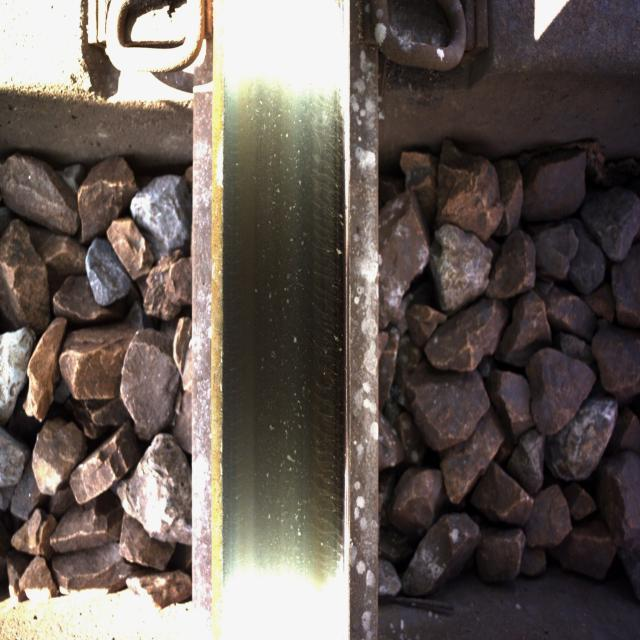normal: (235, 40, 340, 592)
